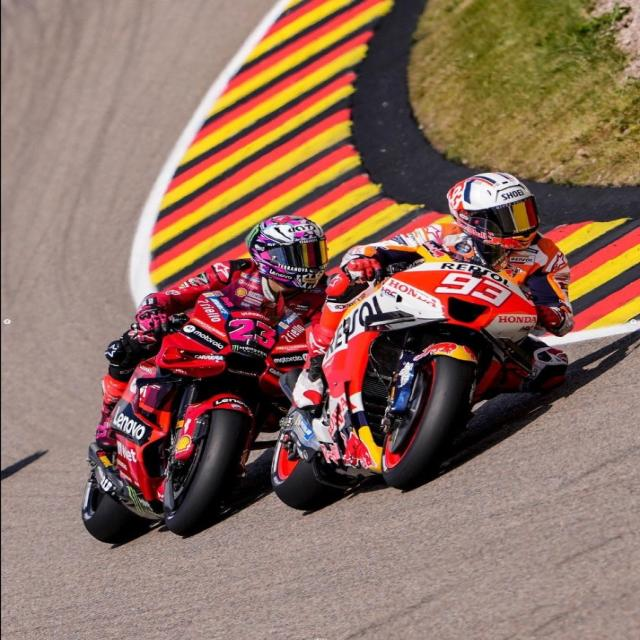helmet: (441, 168, 545, 254), (244, 210, 332, 294)
